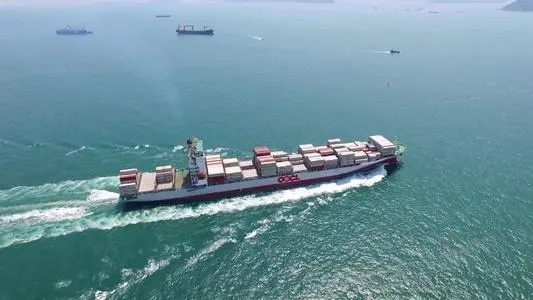Cargoship: (104, 119, 407, 211), (171, 20, 216, 37)
